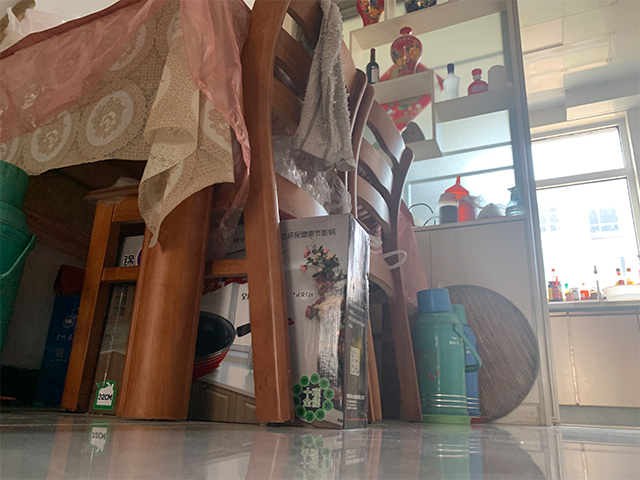cabinet: (417, 223, 544, 436), (547, 300, 640, 427)
stool: (57, 1, 368, 425), (343, 82, 426, 426)
table: (1, 1, 255, 423)
